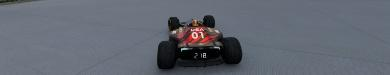Car: (156, 14, 242, 69)
